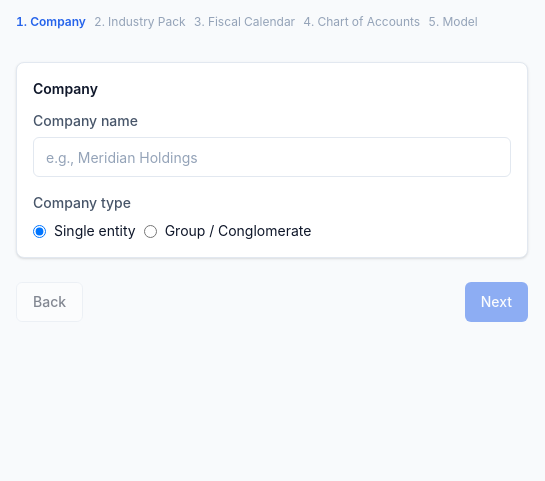
Scenario: S-002 wizard — live pack library states (B18-3 mock mirrors shapes) › shows each pack card with its description (S-002 pack cards)
Type "Acme" into the field labelled "Company name" at [272, 157], box [33,137,511,177]
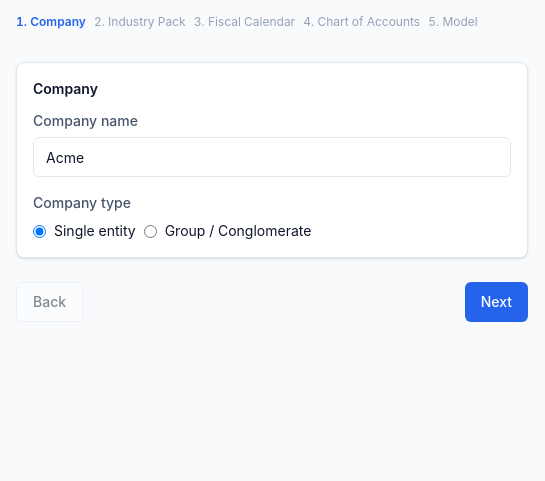
Click the button "Next" at [496, 302], box [465,282,528,322]
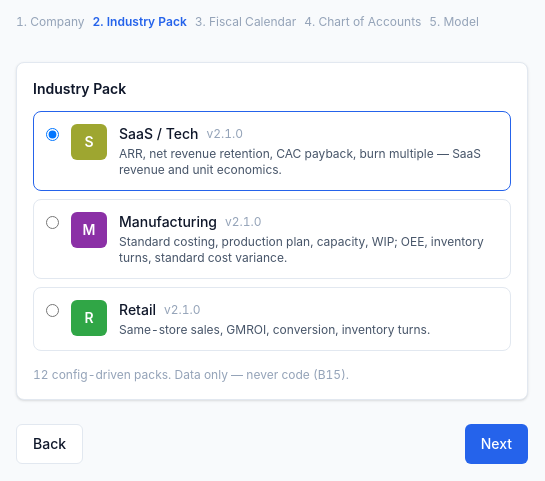
Check: the text "Manufacturing" is shown, box [119,213,217,230]
Check: the text "Standard costing, production plan, capacity, WIP; OEE, inventory turns, standard cost variance." is shown, box [119,234,484,265]
